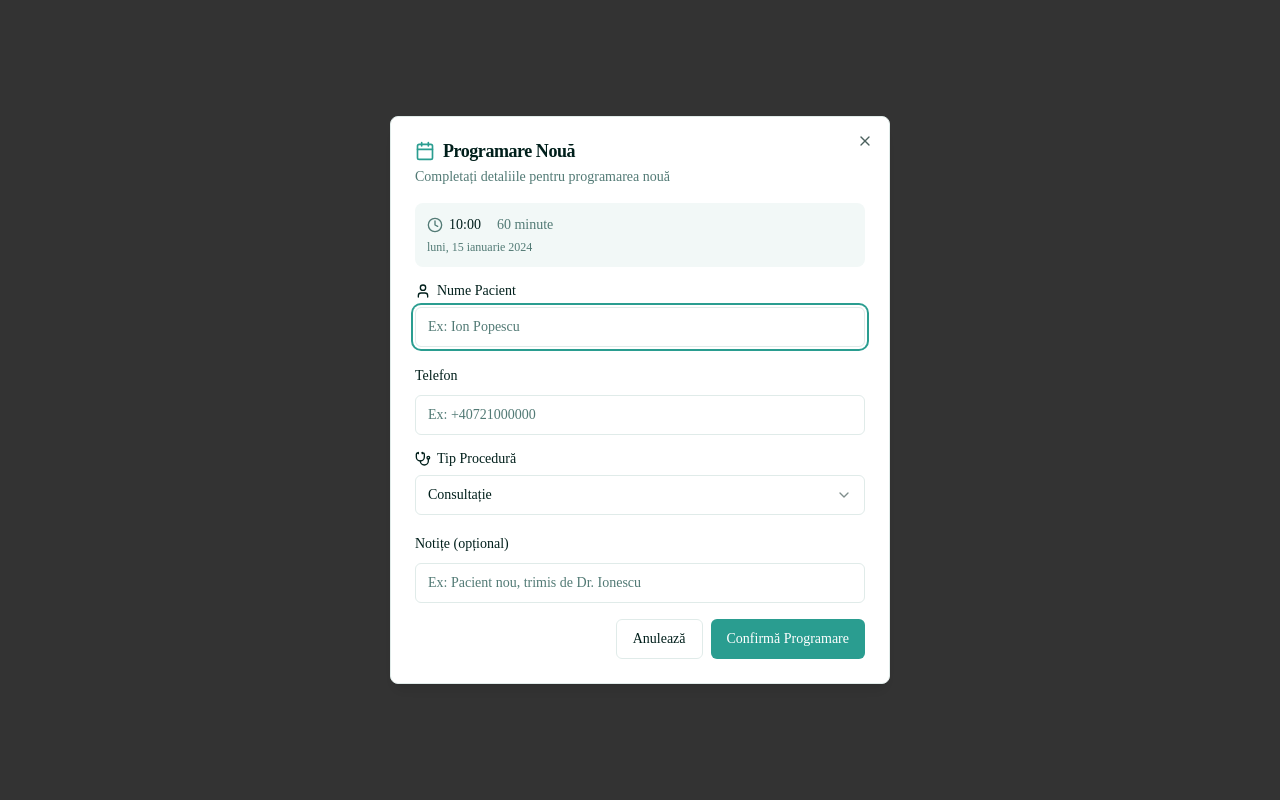
BookingModal › should show error message on booking failure
The width and height of the screenshot is (1280, 800).
Type "Ion Popescu" into the field labelled "Nume Pacient" at [640, 327], box [415,307,865,347]
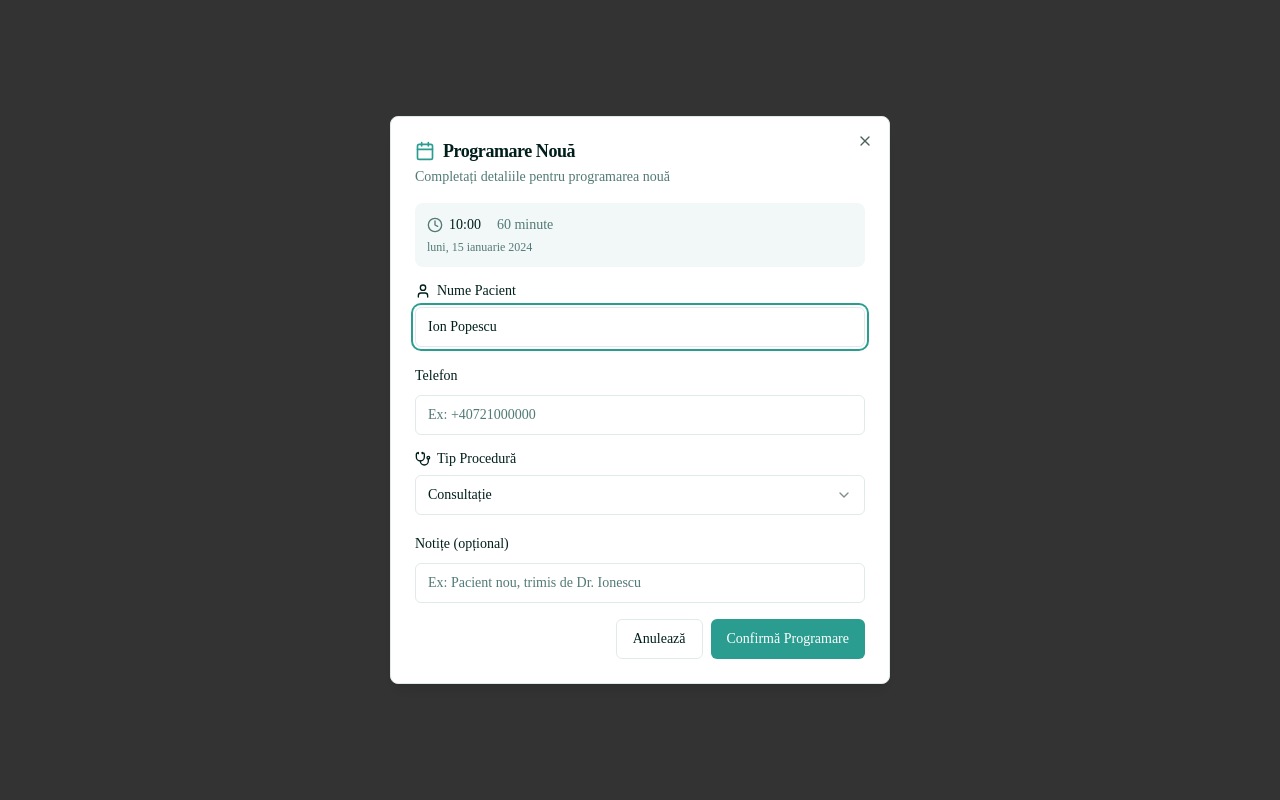
Type "+40123456789" into the field labelled "Telefon" at [640, 415], box [415,395,865,435]
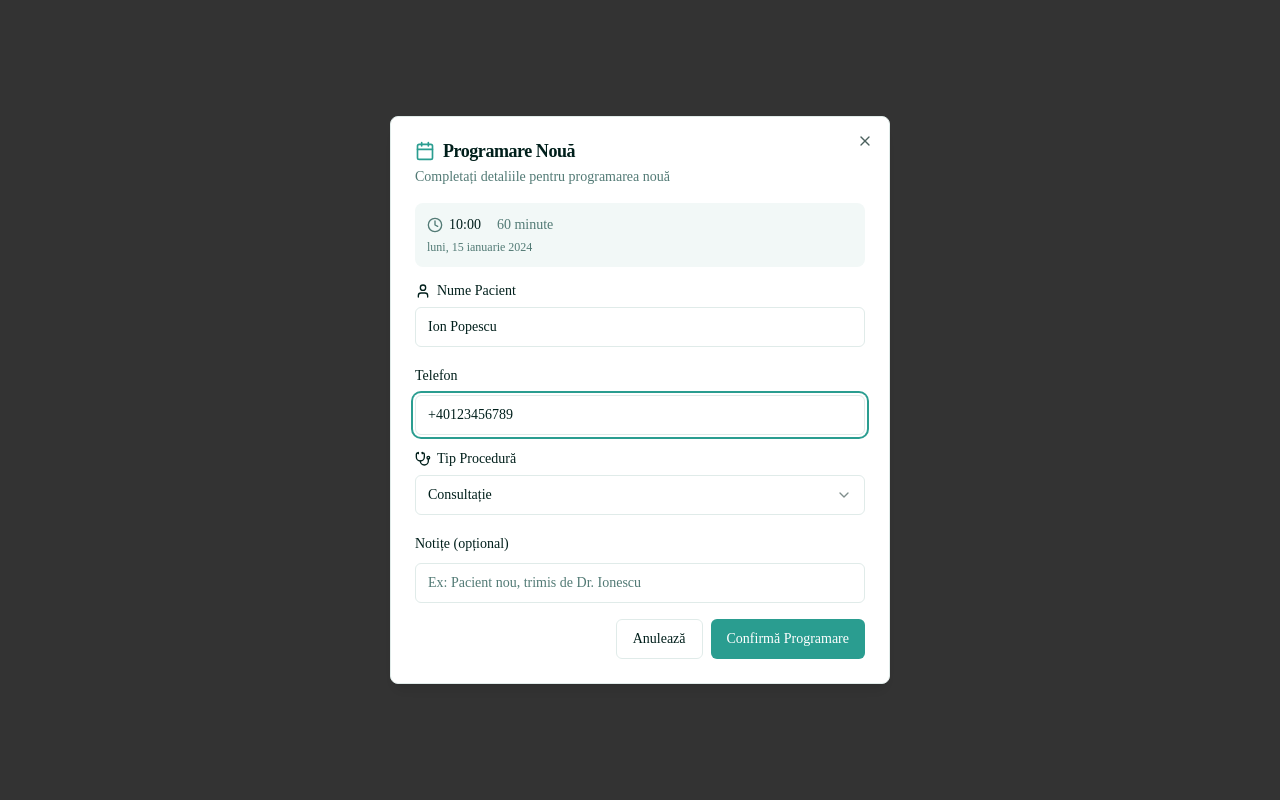
Click the button "Confirmă Programare" at [788, 639], box [710,619,865,659]
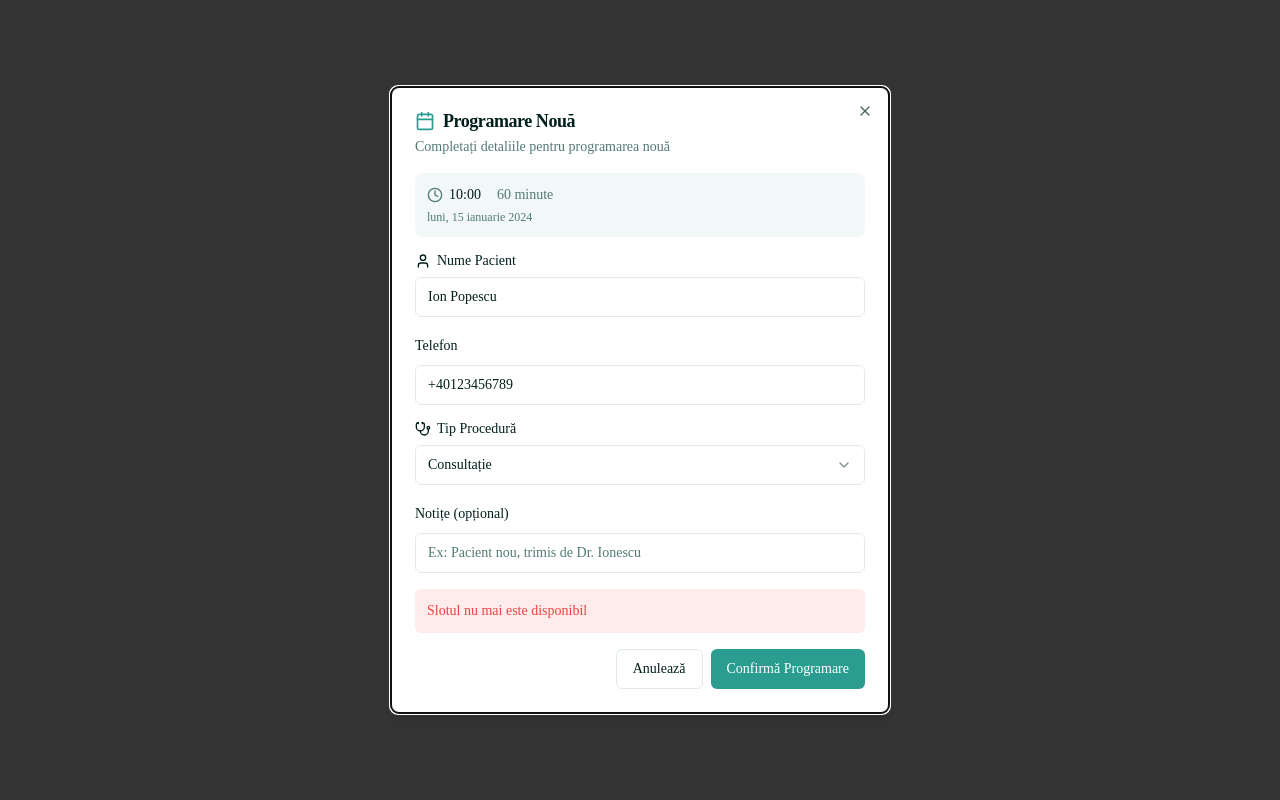
Expected: the text "Slotul nu mai este disponibil" is shown, [415,589,865,633]
